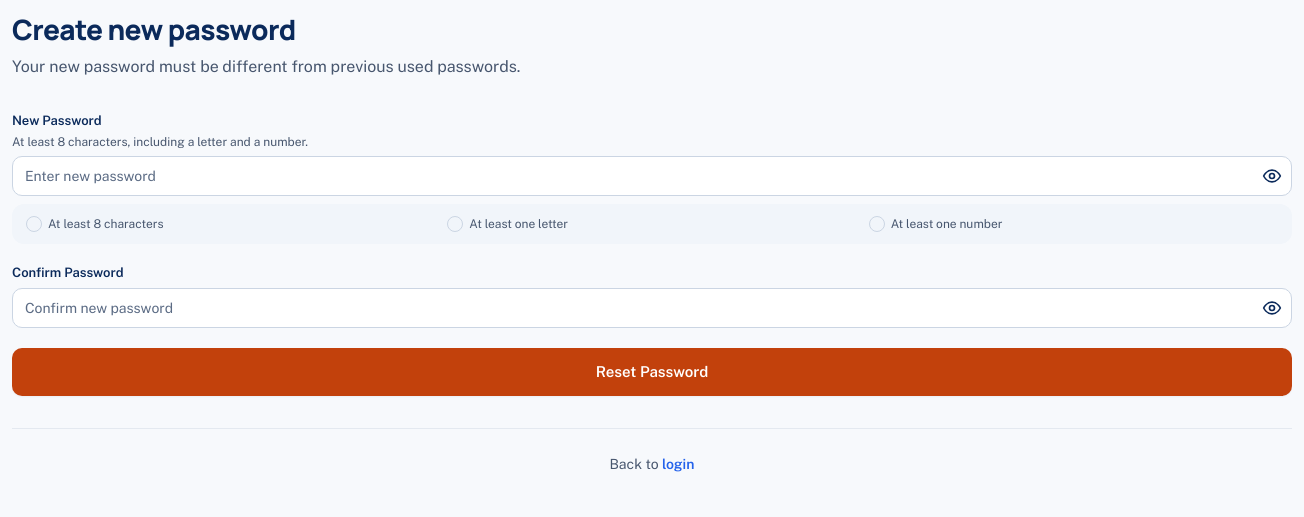
ResetPasswordPage › rejects a mismatched confirmation password
Type "Password123" into the password field labelled "New Password".
click(652, 176); type("Password123")  # box [12,156,1292,196]
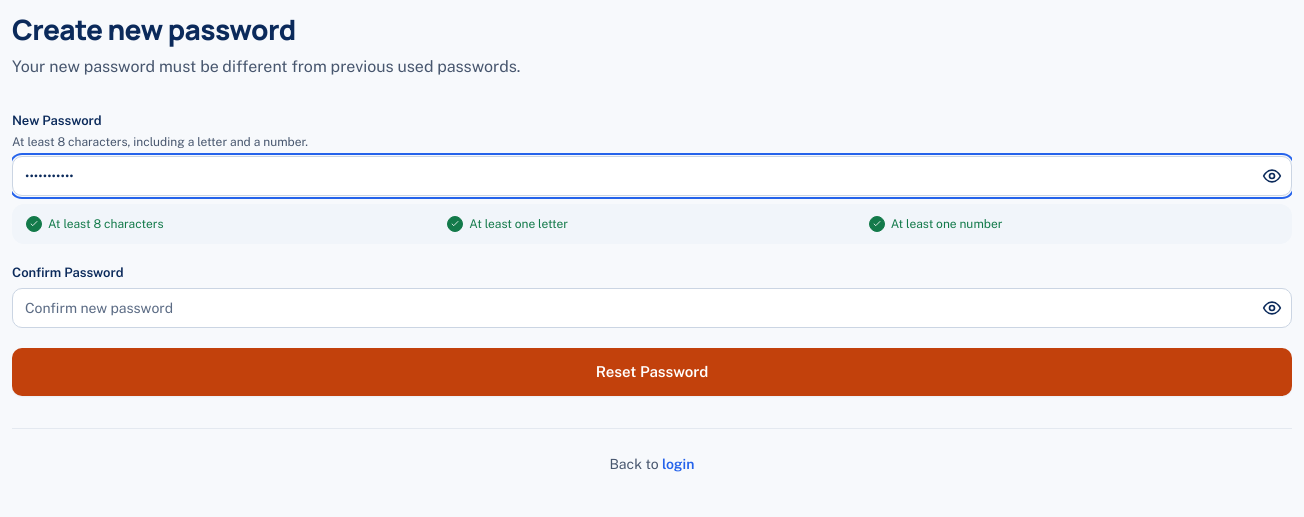
Type "Different123" into the password field labelled "Confirm Password".
click(652, 308); type("Different123")  # box [12,288,1292,328]
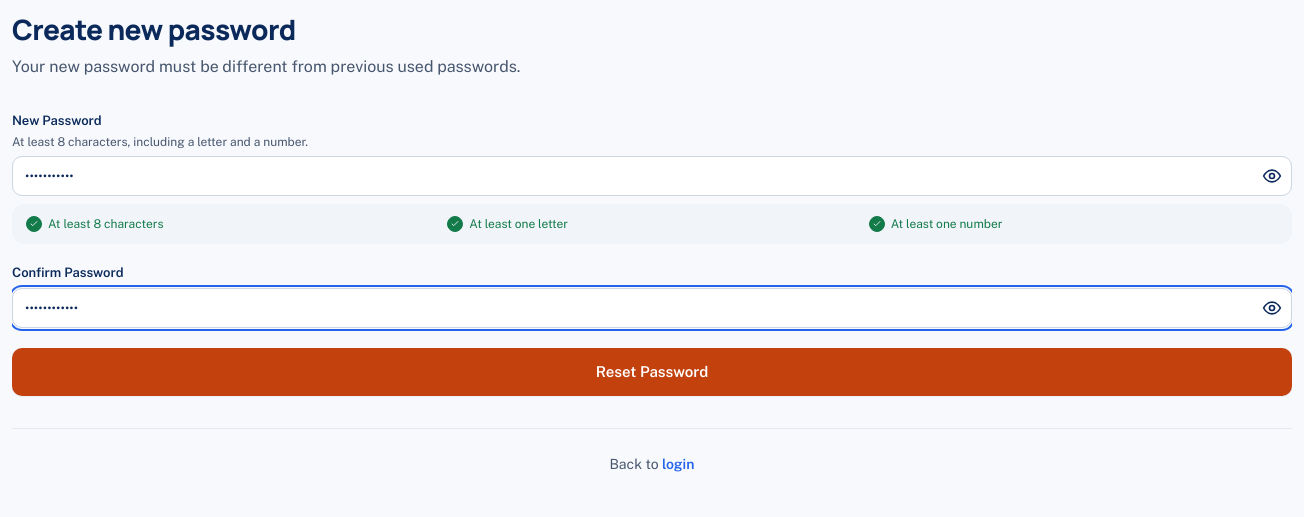
Click the button "Reset Password".
click(652, 372)  # box [12,348,1292,396]
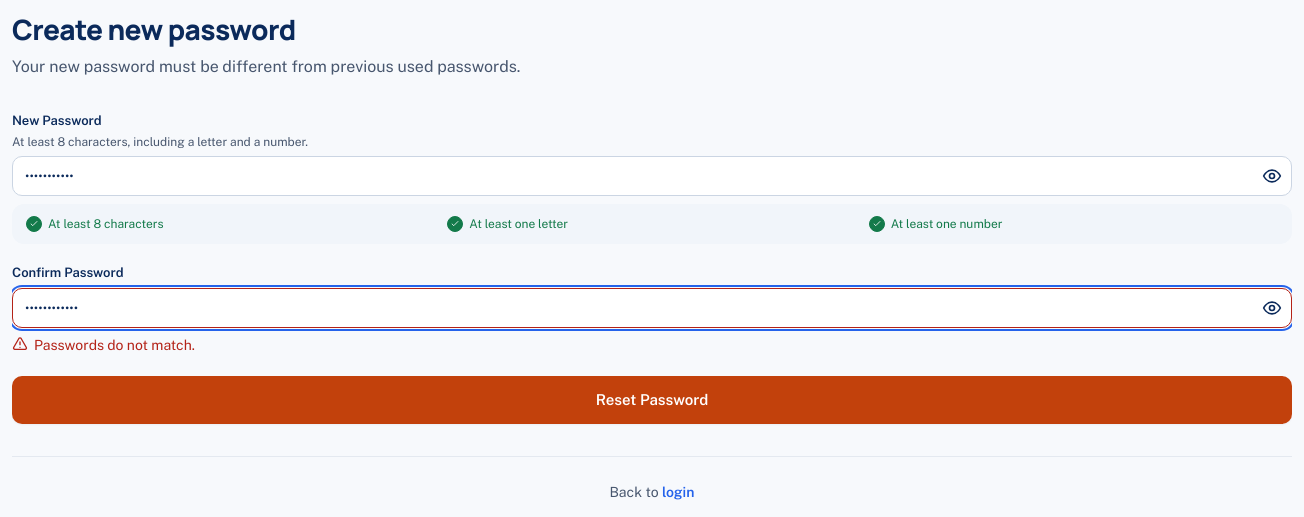
Check: the text "Passwords do not match." is shown, box [12,336,195,353]
